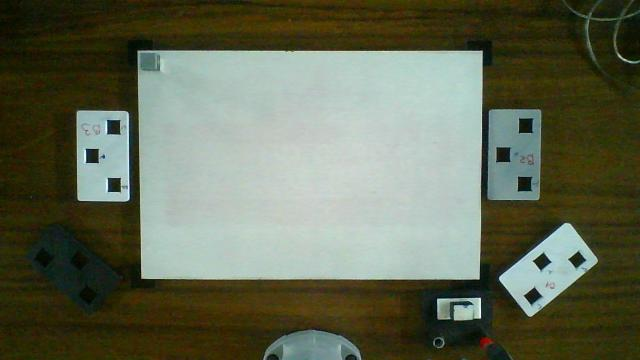peca_cinza: (141, 54, 156, 69)
